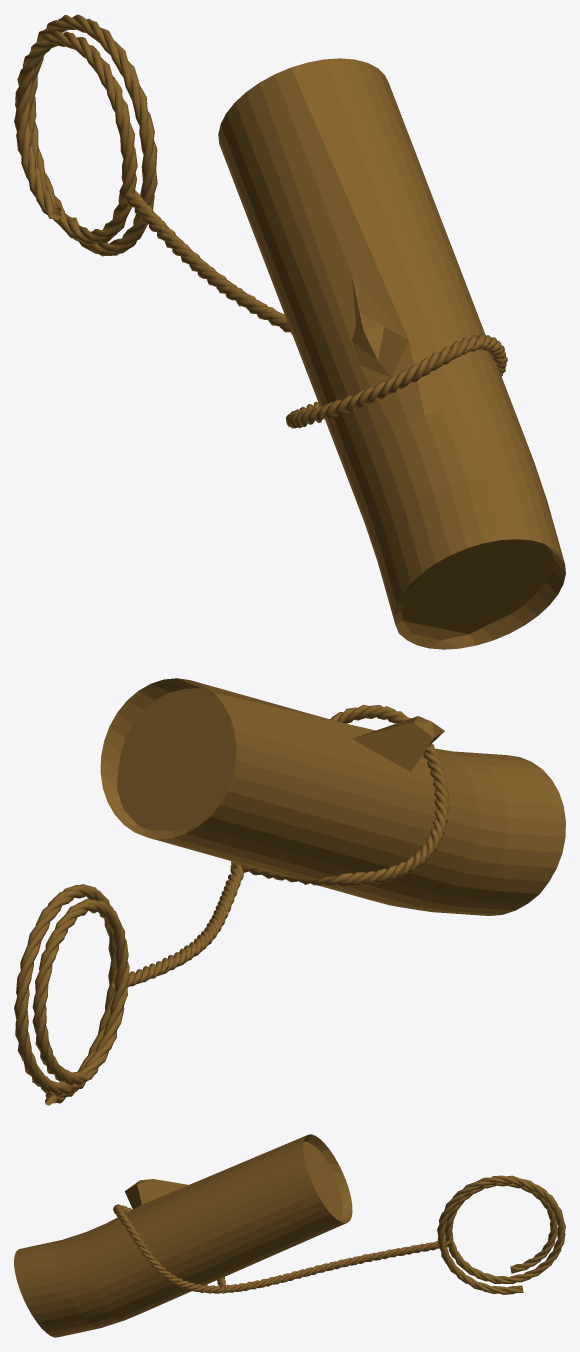
The model's file is Boomstam_Animation_Inverted.fbx.
3 views of the same model, one above another, from view 1: azimuth 30°, elevation 25°; view 2: azimuth 150°, elevation 25°; view 3: azimuth 270°, elevation 25° (orthographic). The views are drawn at different scales.
Parts seen in each view (by area): view 1: Circle.002; view 2: Circle.002; view 3: Circle.002.
Part boxes in pixels (x1,y1,x2,y2): Circle.002: (14,14,565,649); Circle.002: (14,678,565,1105); Circle.002: (14,1134,565,1337).
Size of the model in its own units: 113 by 175 by 407.
